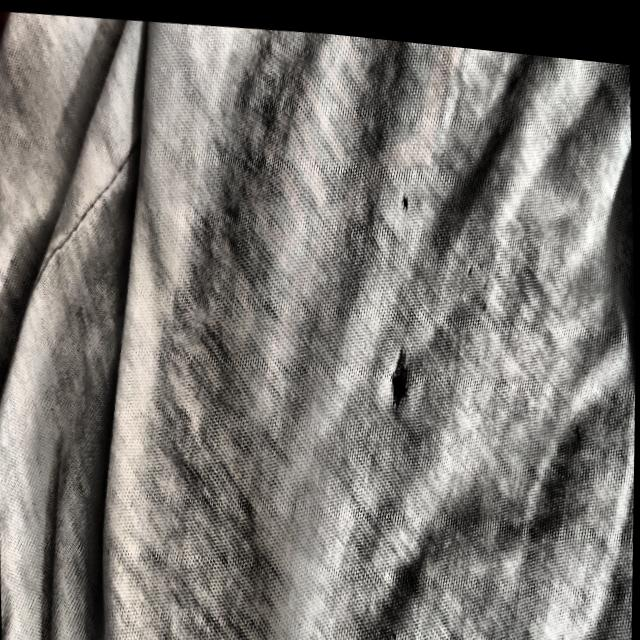Hole: (384, 327, 416, 414), (396, 178, 413, 212), (571, 406, 586, 436)
